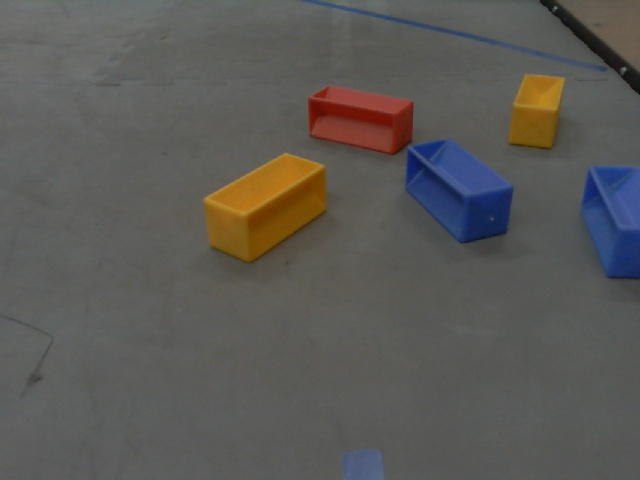BlueSample: (401, 134, 521, 247), (578, 161, 640, 282)
RedSample: (304, 82, 414, 155)
YellowSample: (202, 151, 331, 265), (502, 72, 567, 155)
